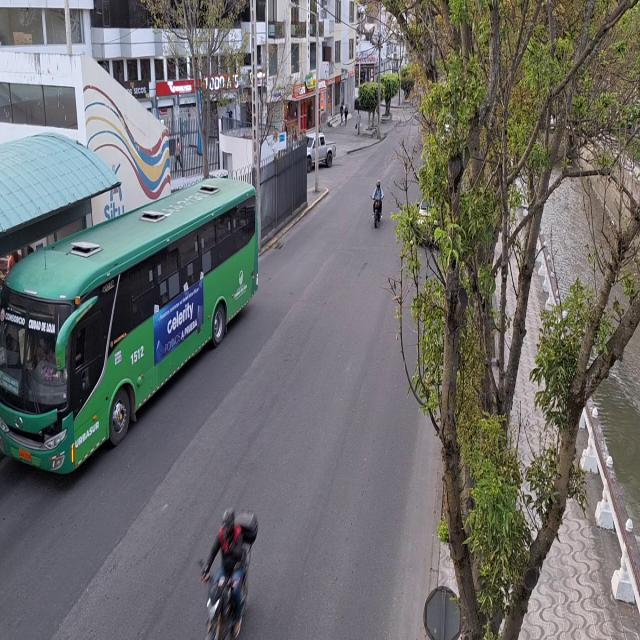BUS: (0, 182, 253, 478)
MOTORCYCLE: (190, 491, 259, 640), (363, 174, 387, 238)
